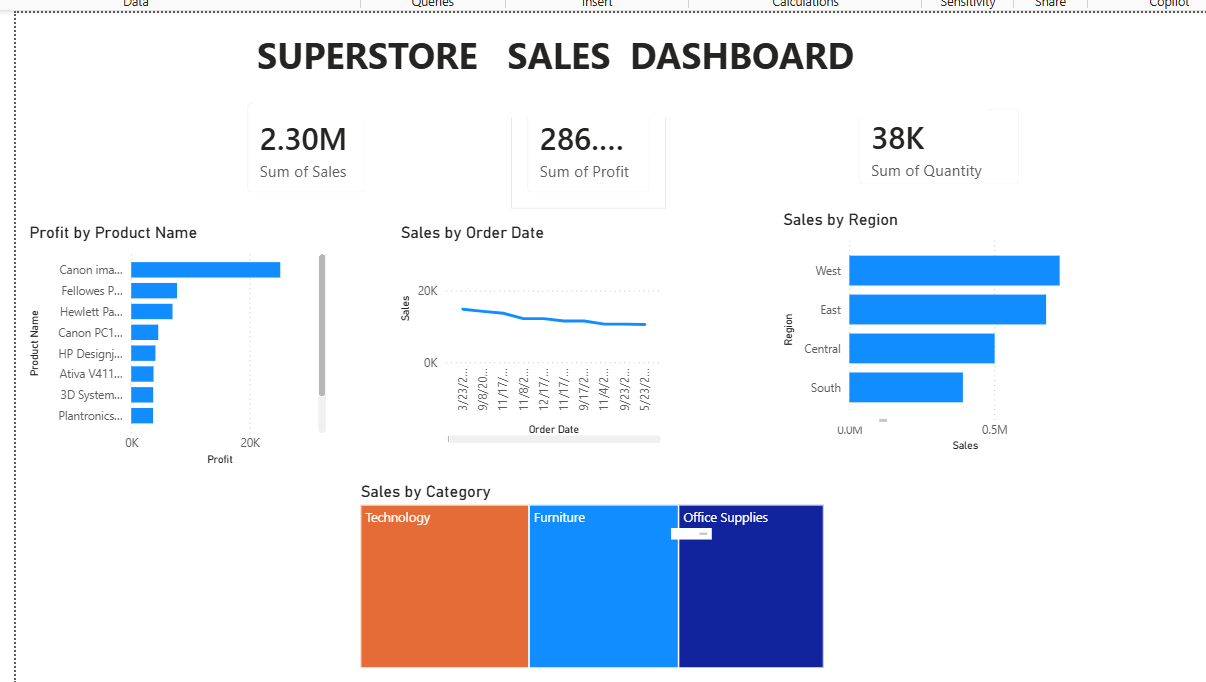

Layout of this report page (visuals, bound fields, positions):
{"tool":"powerbi","page":{"name":"Page 1","canvas":[1280,720],"ordinal":0},"visuals":[{"type":"cardVisual","fields":{"Data":["Sum(Sample - Superstore.Sales)"]},"box":[223.4,76.6,157.1,127.3],"z":0},{"type":"cardVisual","fields":{"Data":["Sum(Sample - Superstore.Profit)"]},"box":[514.3,76.6,161,127.3],"z":1000},{"type":"cardVisual","fields":{"Data":["Sum(Sample - Superstore.Quantity)"]},"box":[858.4,83.1,201.3,113],"z":2000},{"type":"clusteredBarChart","fields":{"Category":["Sample - Superstore.Region"],"Y":["Sum(Sample - Superstore.Sales)"]},"box":[792.2,203.9,333.8,257.1],"z":3000},{"type":"lineChart","fields":{"Category":["Sample - Superstore.Order Date"],"Y":["Sum(Sample - Superstore.Sales)"]},"box":[394.8,218.2,280.5,233.8],"z":4000},{"type":"treemap","fields":{"Group":["Sample - Superstore.Category"],"Values":["Sum(Sample - Superstore.Sales)"]},"box":[353.2,487,490.9,198.7],"z":5000},{"type":"clusteredBarChart","fields":{"Category":["Sample - Superstore.Product Name"],"Y":["Sum(Sample - Superstore.Profit)"]},"box":[9.1,218.2,318.2,257.1],"z":6000},{"type":"textbox","box":[680.6,535.2,42.5,12.3],"z":7000},{"type":"textbox","box":[245.5,13,762.3,94.8],"z":9000},{"type":"textbox","box":[806.9,417.2,103.6,13.1],"z":10000}]}

Visuals, with their boxes on the page's 1280x720 design canvas (x1, y1, x2, y2). These are canvas units, not pixel positions in the 1206x682 screenshot, which may show the page scaled, cropped or inside an application window:
cardVisual - Sum(Sample - Superstore.Sales): locate(223, 77, 380, 204)
cardVisual - Sum(Sample - Superstore.Profit): locate(514, 77, 675, 204)
cardVisual - Sum(Sample - Superstore.Quantity): locate(858, 83, 1060, 196)
clusteredBarChart - Sample - Superstore.Region x Sum(Sample - Superstore.Sales): locate(792, 204, 1126, 461)
lineChart - Sample - Superstore.Order Date x Sum(Sample - Superstore.Sales): locate(395, 218, 675, 452)
treemap - Sample - Superstore.Category x Sum(Sample - Superstore.Sales): locate(353, 487, 844, 686)
clusteredBarChart - Sample - Superstore.Product Name x Sum(Sample - Superstore.Profit): locate(9, 218, 327, 475)
textbox: locate(681, 535, 723, 548)
textbox: locate(246, 13, 1008, 108)
textbox: locate(807, 417, 910, 430)
